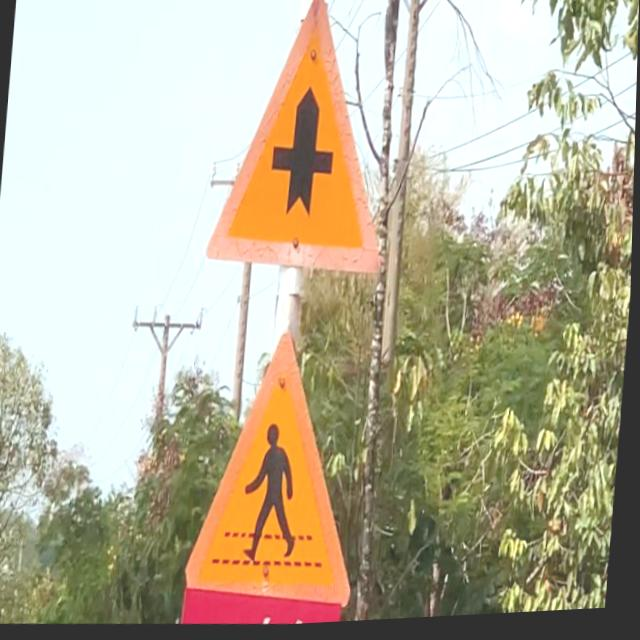Giao nhau voi duong khong uu tien: (192, 0, 411, 303)
Nguoi di bo cat ngang: (171, 311, 378, 618)
